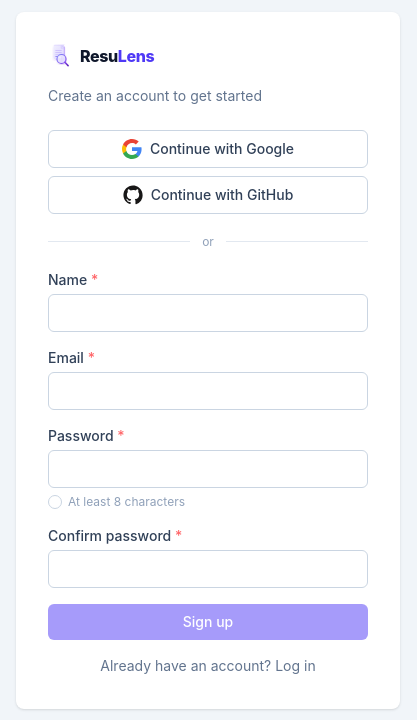
it: AuthPage — signup validation › keeps the submit button disabled until every server-enforced rule is met
Check: the button "Sign up" is disabled, box [48,604,368,640]
Type "Om" into the field labelled "Name *" at (208, 312), box [48,294,368,332]
Type "not-an-email" into the field labelled "Email *" at (208, 390), box [48,372,368,410]
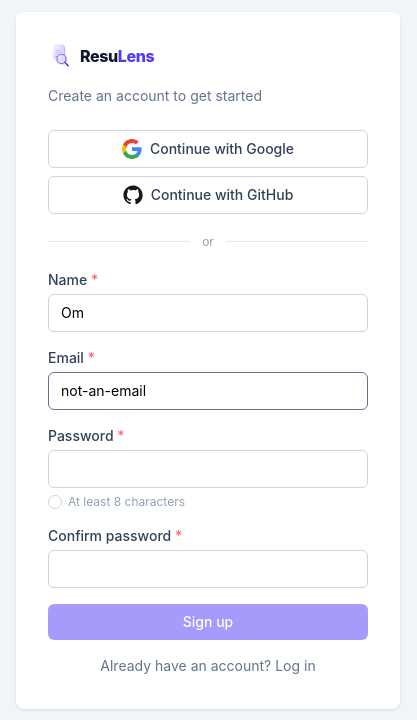
Check: the button "Sign up" is disabled, box [48,604,368,640]
Type "short" into the password field labelled "Password *" at (208, 468), box [48,450,368,488]
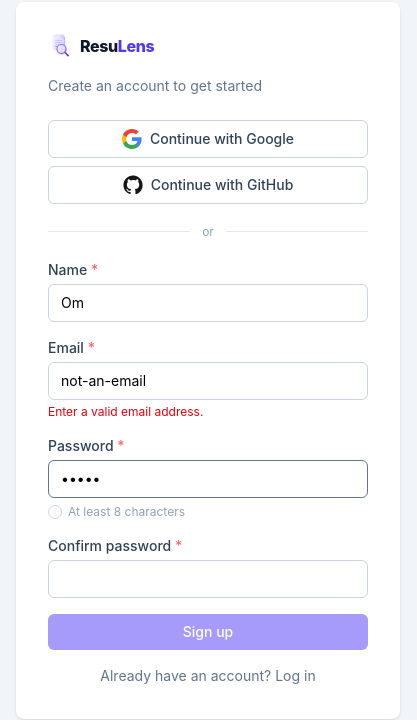
Check: the button "Sign up" is disabled, box [48,614,368,650]
Type "longenough1" into the password field labelled "Password *" at (208, 478), box [48,460,368,498]
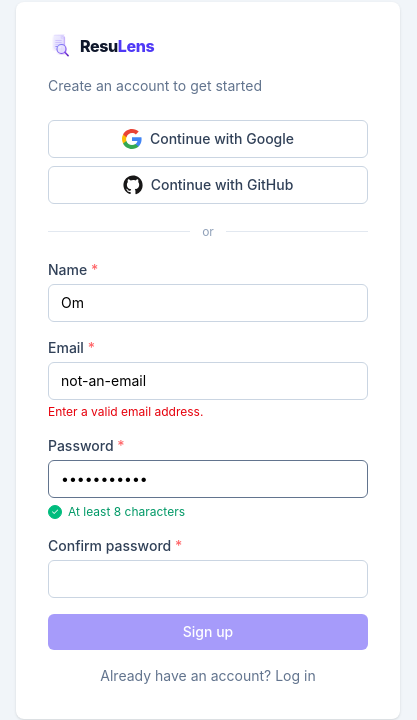
Type "longenough1" into the password field labelled "Confirm password *" at (208, 578), box [48,560,368,598]
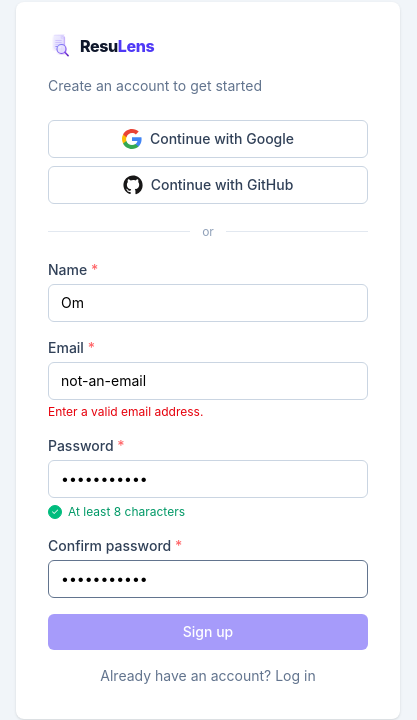
Check: the button "Sign up" is disabled, box [48,614,368,650]
Clear the field labelled "Email *" at (208, 380), box [48,362,368,400]
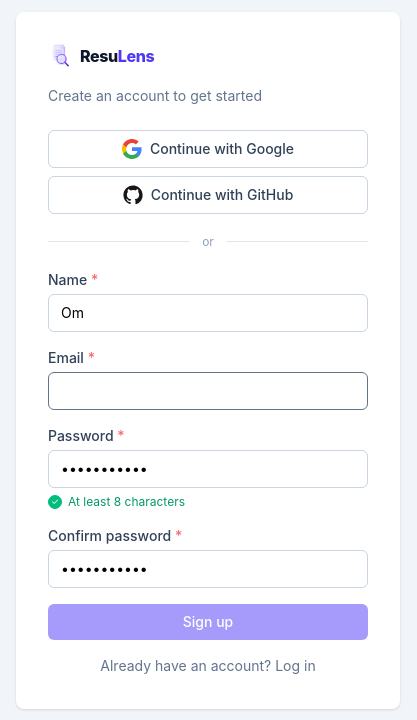
Type "om@example.com" into the field labelled "Email *" at (208, 390), box [48,372,368,410]
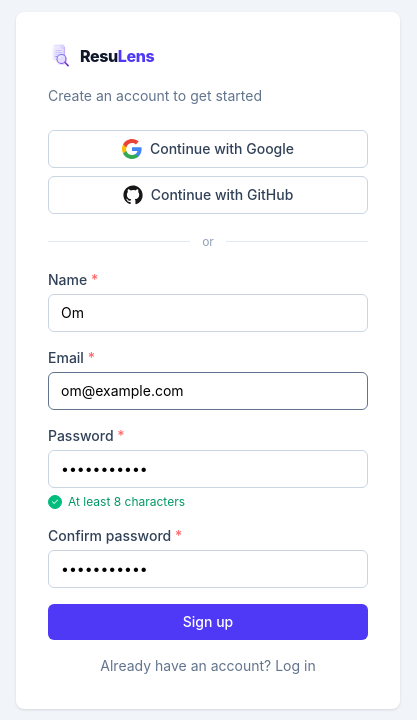
Check: the button "Sign up" is enabled, box [48,604,368,640]
